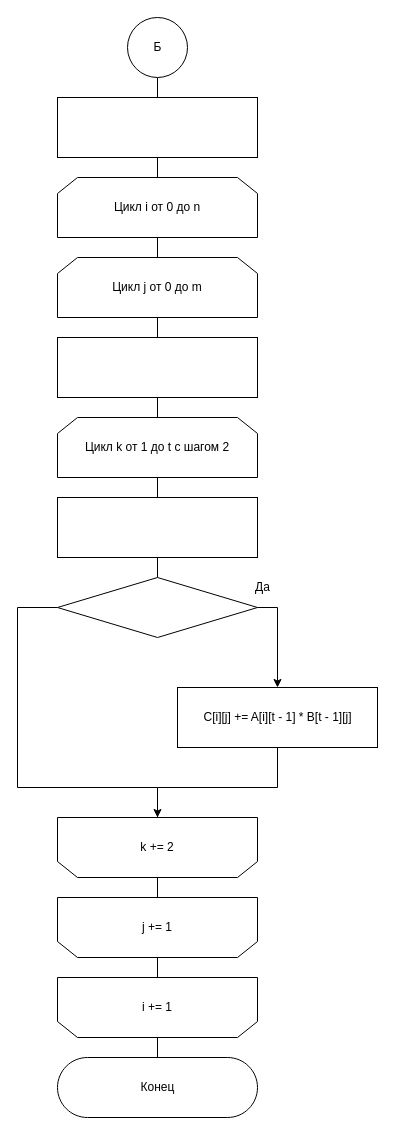
The diagram is 395 pixels wide and 1135 high, and some of its shapes have lost their labels. Here are the shapes that lost their labels. From the top down, the centre of each, then its label:
At [157,127]: "flag = остаток от деления t на 2".
At [157,367]: "C[i][j] -= (a_tmp[i] + b_tmp[j])".
At [157,527]: "C[i][j] += (A[i][k - 1] + + B[k][j] * A[i][k] + B[k - 1][j])".
At [157,607]: "flag == 1".
